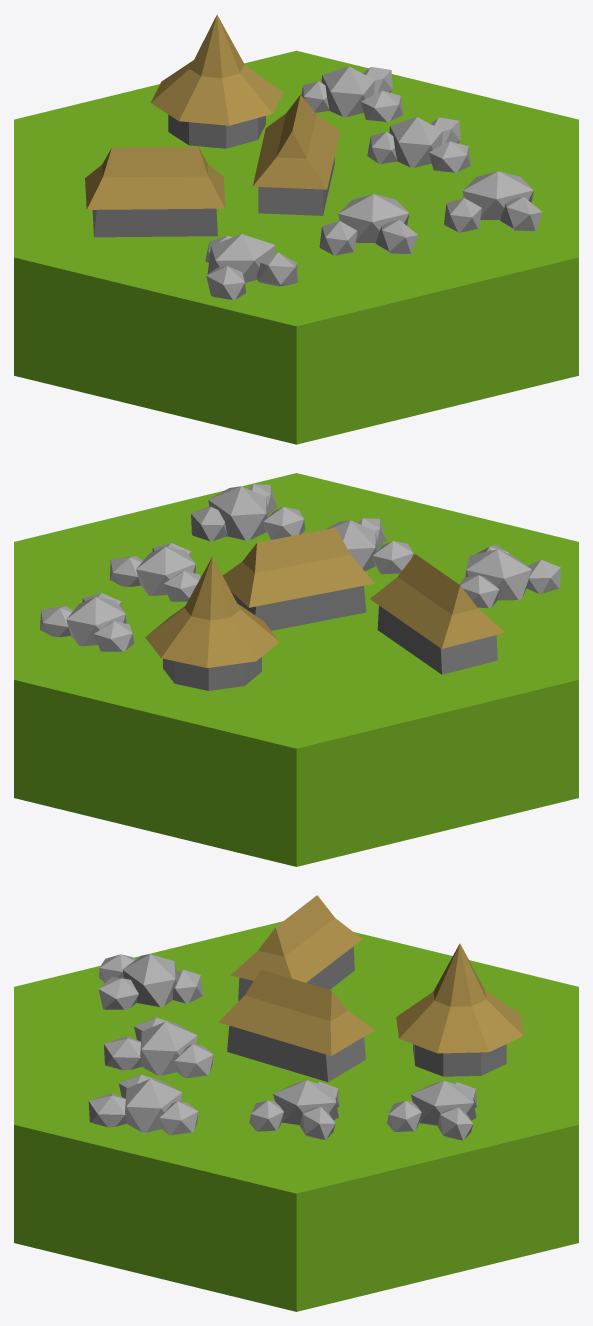
Rendered from Casas_Rocoso_3.fbx.
3 views of the same model, one above another, from view 1: azimuth 30°, elevation 25°; view 2: azimuth 150°, elevation 25°; view 3: azimuth 270°, elevation 25° (orthographic).
Visible parts, largest first — view 1: Casas_Rocoso_3; view 2: Casas_Rocoso_3; view 3: Casas_Rocoso_3.
Boxes of the visible parts, x1,y1,x2,y2 form: Casas_Rocoso_3: (14, 14, 578, 444); Casas_Rocoso_3: (14, 473, 578, 866); Casas_Rocoso_3: (14, 895, 578, 1311).
Bounding box in the file's own units: 200 × 78.5 × 173.
